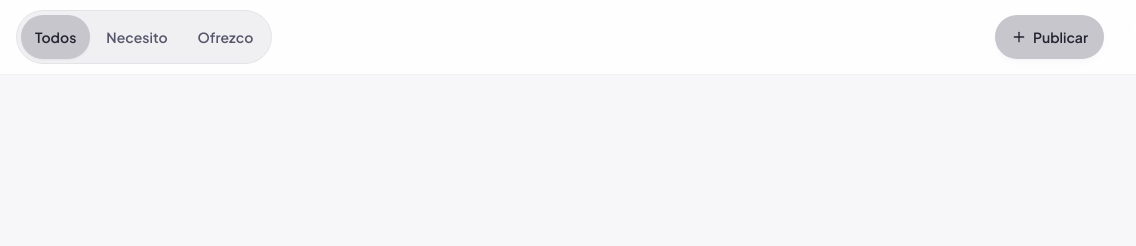
Test: IntentNavBar (components/IntentNavBar.tsx) › sin intentTipo: el botón "+" abre un selector con las 2 opciones antes de publicar
The width and height of the screenshot is (1136, 246).
Click the button with aria-label "Publicar (elegir tipo)".
click(1049, 37)  # box [995,15,1104,59]
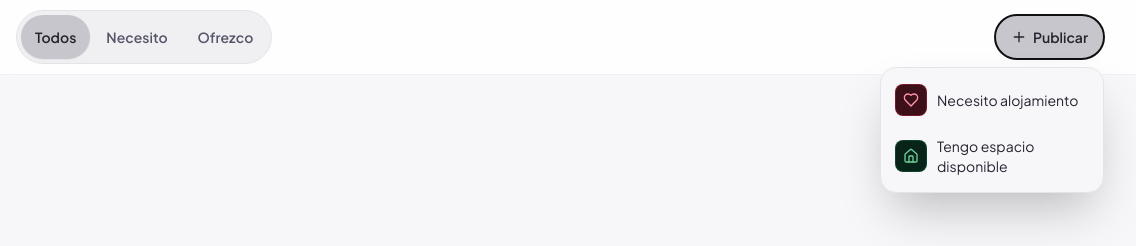
Now the menu is shown, box [880,67,1104,193]
Click the menu item "Necesito alojamiento".
click(992, 100)  # box [881,74,1103,126]
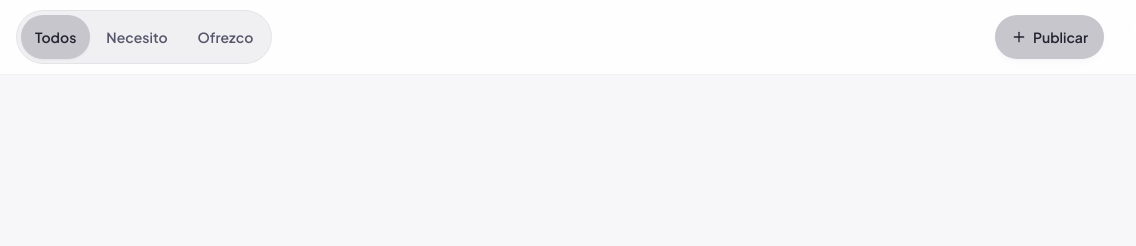
Now the menu is gone
